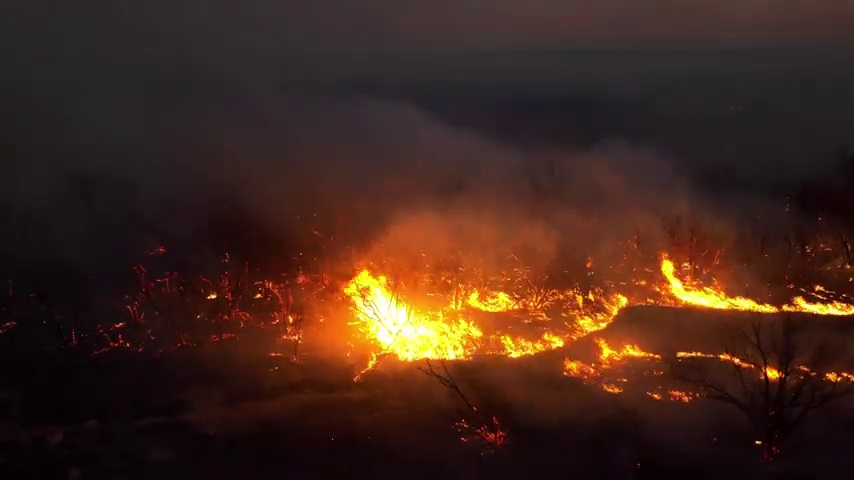forest_fire: (344, 270, 485, 379), (660, 256, 853, 315), (490, 294, 627, 357), (565, 338, 660, 377), (676, 351, 781, 380), (451, 291, 510, 312), (823, 372, 853, 381)
